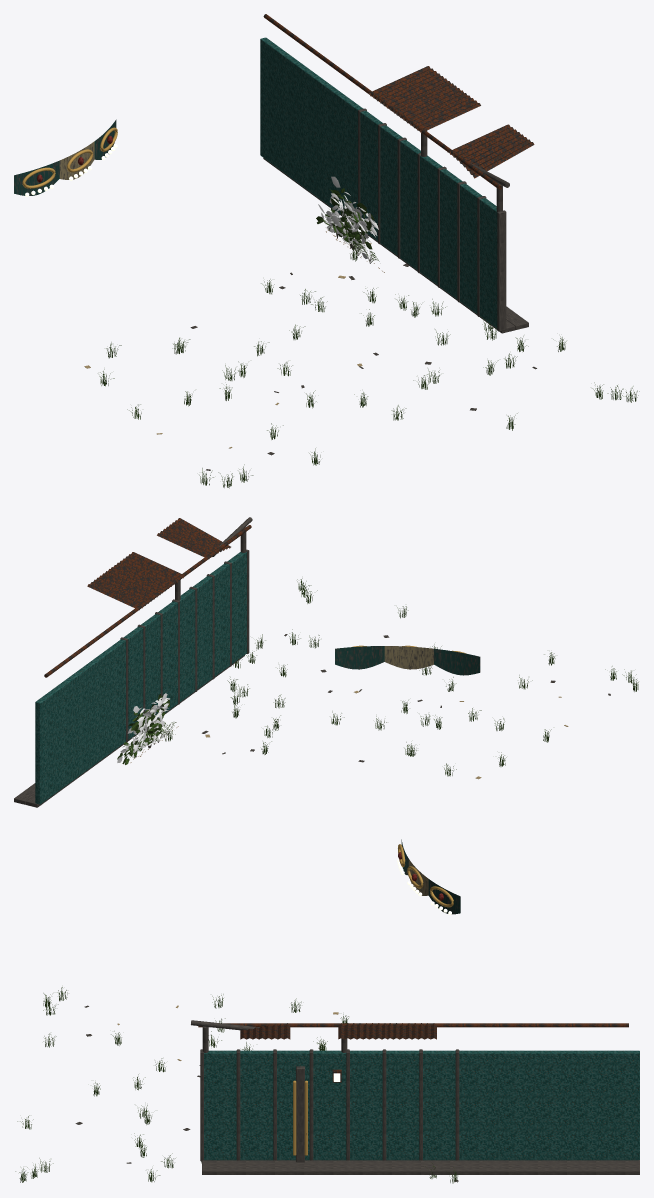
Rendered from SM_Env_Tile_p0_p1.fbx.
The picture shows the model from 3 angles, top to bottom: view 1: azimuth 30°, elevation 25°; view 2: azimuth 150°, elevation 25°; view 3: azimuth 270°, elevation 25°; orthographic projection. The views are drawn at different scales.
Visible parts, largest first — view 1: SM_Env_Tile_p0_p1; view 2: SM_Env_Tile_p0_p1; view 3: SM_Env_Tile_p0_p1.
Part boxes in pixels (x1,y1,x2,y2): SM_Env_Tile_p0_p1: (14,14,639,488); SM_Env_Tile_p0_p1: (14,517,638,807); SM_Env_Tile_p0_p1: (15,839,639,1183).
Size of what is drawn, in the model's own units: 1256 by 1715 by 493.
15 materials, 9 textured.
